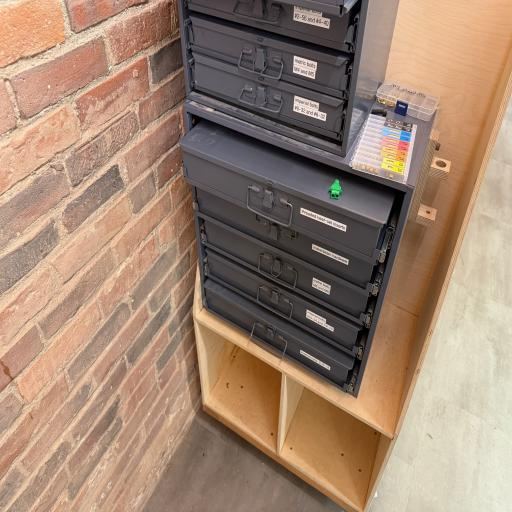Lego-Dude: (329, 179, 342, 199)
